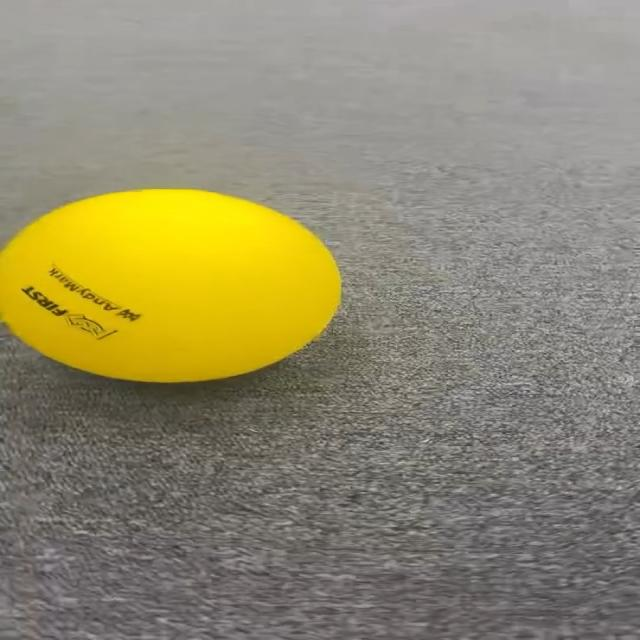Fuels: (3, 190, 341, 379)
